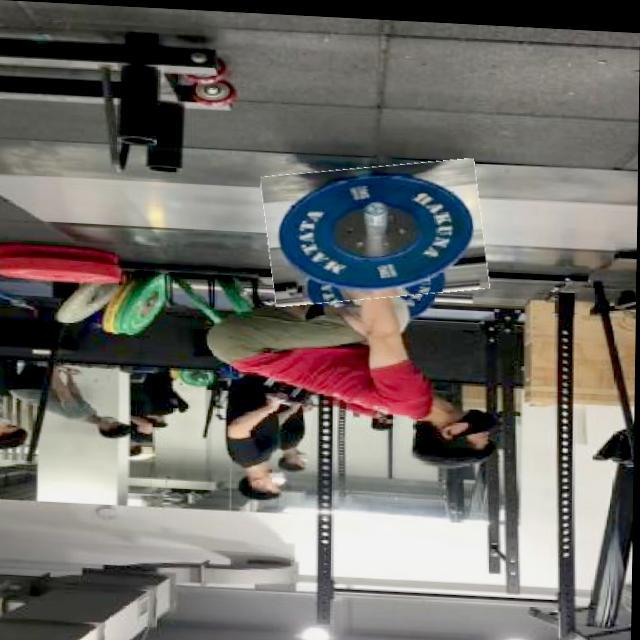barbell: (265, 153, 489, 306)
